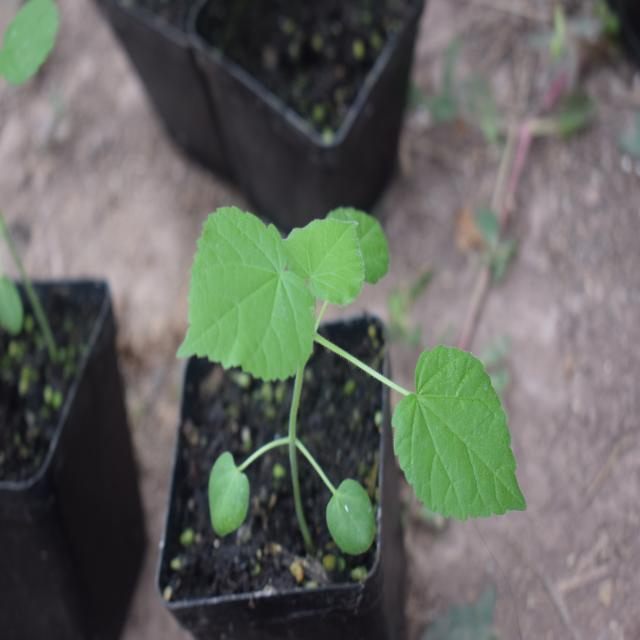abutilon theophrasti: (178, 180, 506, 555)
